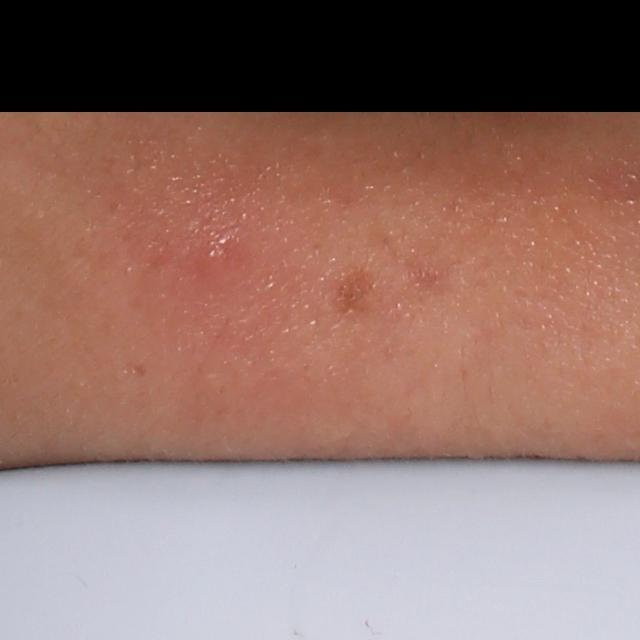papule: (192, 237, 236, 280)
